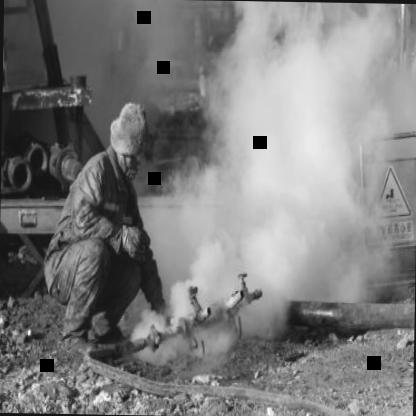helmet: (110, 99, 148, 170)
